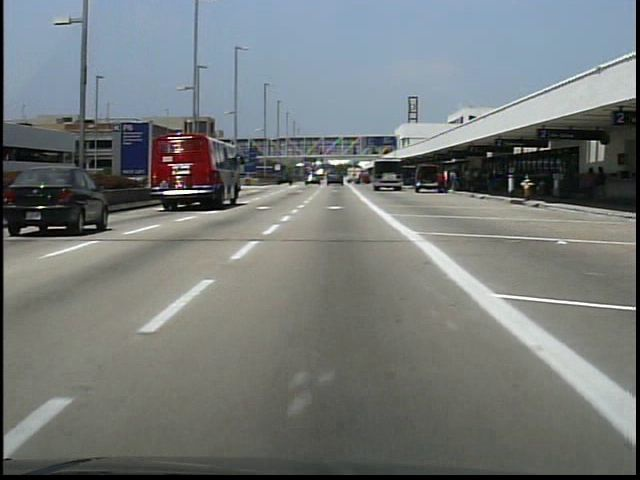person: (438, 170, 450, 199)
